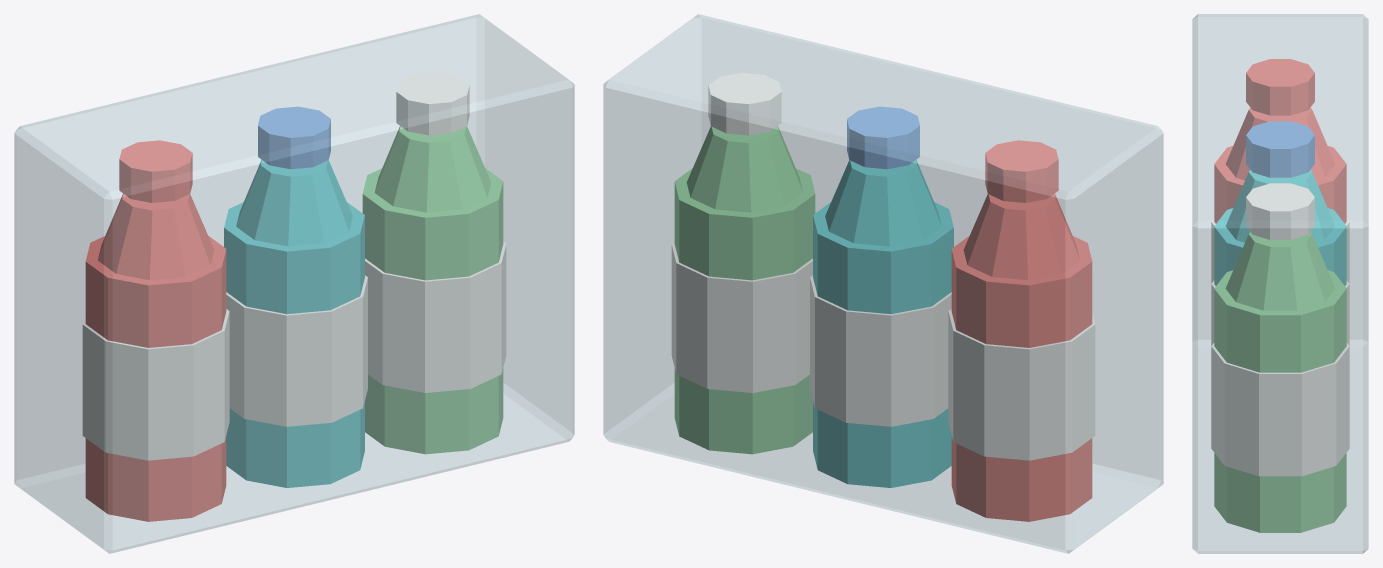
Rendered from Pack_Agua.fbx.
3 views of the same model, side by side, from view 1: azimuth 30°, elevation 25°; view 2: azimuth 150°, elevation 25°; view 3: azimuth 270°, elevation 25° (orthographic). The views are drawn at different scales.
Parts seen in each view (by area): view 1: Pack_Agua | Plastico pack, Pack_Agua | Botella, Pack_Agua | Botella.002, Pack_Agua | Botella.001, Pack_Agua | Etiqueta botella, Pack_Agua | Etiqueta botella.001, Pack_Agua | Etiqueta botella.002, Pack_Agua | Cuello botella.002, Pack_Agua | Cuello botella, Pack_Agua | Cuello botella.001, Pack_Agua | Tapón, Pack_Agua | Tapón.002 (+1 smaller); view 2: Pack_Agua | Plastico pack, Pack_Agua | Botella, Pack_Agua | Botella.002, Pack_Agua | Botella.001, Pack_Agua | Etiqueta botella, Pack_Agua | Etiqueta botella.001, Pack_Agua | Etiqueta botella.002, Pack_Agua | Cuello botella.002, Pack_Agua | Cuello botella, Pack_Agua | Cuello botella.001, Pack_Agua | Tapón, Pack_Agua | Tapón.002 (+1 smaller); view 3: Pack_Agua | Plastico pack, Pack_Agua | Botella.002, Pack_Agua | Etiqueta botella.002, Pack_Agua | Cuello botella.002, Pack_Agua | Tapón, Pack_Agua | Tapón.002, Pack_Agua | Tapón.001, Pack_Agua | Botella.001, Pack_Agua | Botella, Pack_Agua | Cuello botella.001, Pack_Agua | Cuello botella, Pack_Agua | Etiqueta botella.001 (+1 smaller).
Boxes of the visible parts, x1=… form: Pack_Agua | Plastico pack: x1=14, y1=14, x2=574, y2=553; Pack_Agua | Botella: x1=85, y1=236, x2=226, y2=521; Pack_Agua | Botella.002: x1=362, y1=168, x2=503, y2=454; Pack_Agua | Botella.001: x1=224, y1=202, x2=364, y2=487; Pack_Agua | Etiqueta botella: x1=82, y1=309, x2=229, y2=460; Pack_Agua | Etiqueta botella.001: x1=226, y1=275, x2=367, y2=426; Pack_Agua | Etiqueta botella.002: x1=365, y1=241, x2=506, y2=392; Pack_Agua | Cuello botella.002: x1=374, y1=126, x2=491, y2=212; Pack_Agua | Cuello botella: x1=97, y1=193, x2=214, y2=280; Pack_Agua | Cuello botella.001: x1=236, y1=159, x2=352, y2=246; Pack_Agua | Tapón: x1=119, y1=140, x2=192, y2=202; Pack_Agua | Tapón.002: x1=396, y1=72, x2=469, y2=135; Pack_Agua | Plastico pack: x1=603, y1=14, x2=1163, y2=553; Pack_Agua | Botella: x1=951, y1=236, x2=1092, y2=521; Pack_Agua | Botella.002: x1=674, y1=168, x2=815, y2=454; Pack_Agua | Botella.001: x1=813, y1=202, x2=953, y2=487; Pack_Agua | Etiqueta botella: x1=948, y1=309, x2=1095, y2=460; Pack_Agua | Etiqueta botella.001: x1=810, y1=275, x2=951, y2=426; Pack_Agua | Etiqueta botella.002: x1=671, y1=241, x2=812, y2=392; Pack_Agua | Cuello botella.002: x1=686, y1=126, x2=803, y2=212; Pack_Agua | Cuello botella: x1=963, y1=193, x2=1080, y2=280; Pack_Agua | Cuello botella.001: x1=825, y1=159, x2=941, y2=246; Pack_Agua | Tapón: x1=985, y1=140, x2=1058, y2=202; Pack_Agua | Tapón.002: x1=708, y1=72, x2=781, y2=135; Pack_Agua | Plastico pack: x1=1192, y1=14, x2=1368, y2=553; Pack_Agua | Botella.002: x1=1214, y1=270, x2=1346, y2=532; Pack_Agua | Etiqueta botella.002: x1=1211, y1=343, x2=1349, y2=476; Pack_Agua | Cuello botella.002: x1=1225, y1=232, x2=1335, y2=310; Pack_Agua | Tapón: x1=1246, y1=59, x2=1314, y2=115; Pack_Agua | Tapón.002: x1=1246, y1=183, x2=1314, y2=239; Pack_Agua | Tapón.001: x1=1246, y1=121, x2=1314, y2=177; Pack_Agua | Botella.001: x1=1214, y1=208, x2=1346, y2=285; Pack_Agua | Botella: x1=1214, y1=146, x2=1346, y2=223; Pack_Agua | Cuello botella.001: x1=1225, y1=170, x2=1335, y2=242; Pack_Agua | Cuello botella: x1=1225, y1=108, x2=1335, y2=180; Pack_Agua | Etiqueta botella.001: x1=1211, y1=280, x2=1349, y2=345.
Size of the model in its own units: 0.34 by 0.25 by 0.12.
